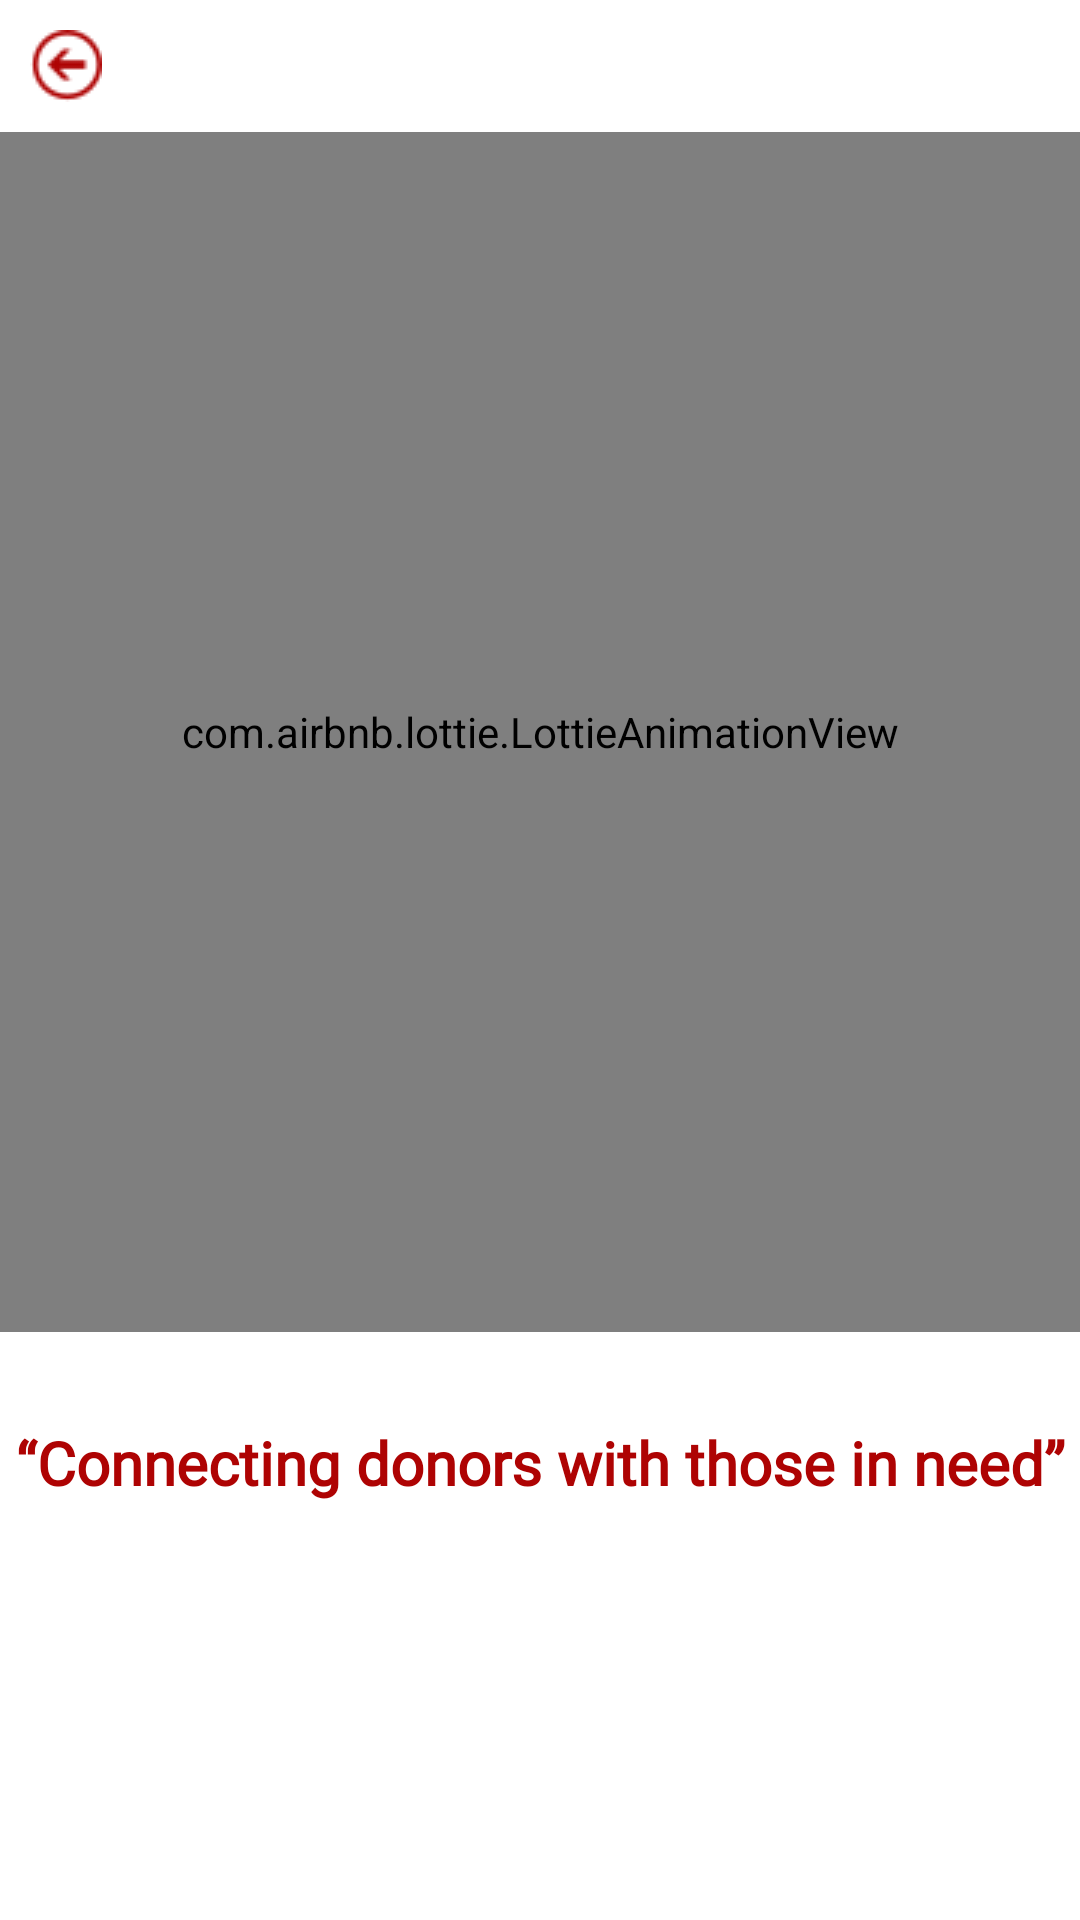

Named icons in this screenshot (1080px×1920px) and their bounding boxes, bbox=(x1, y1, x2, y2):
backarrow: bbox=(32, 30, 102, 100)
